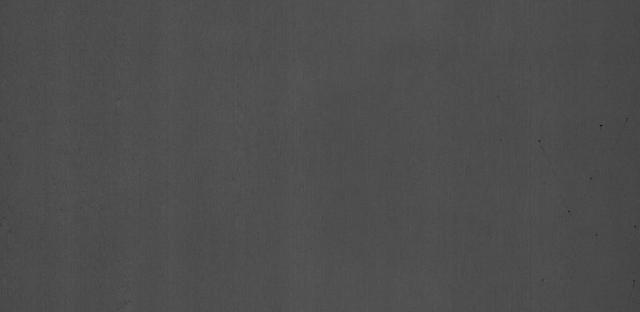inclusion: (589, 110, 614, 141), (531, 130, 552, 156)
